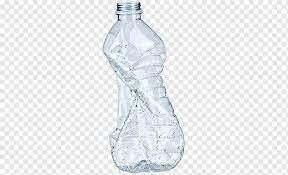plastic: (107, 1, 183, 172)
